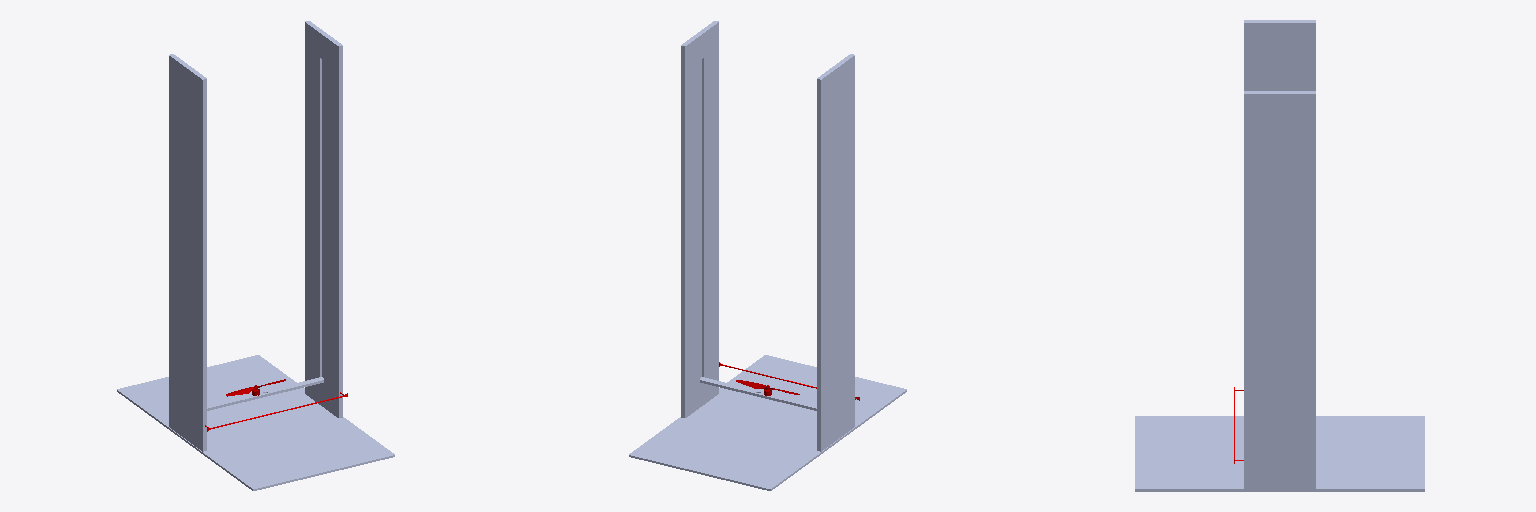
The robot description file, URDF, robot "robotbar_pid_flight_altitude":
<?xml version="1.0" encoding="utf-8"?>
<!-- This URDF was automatically created by SolidWorks to URDF Exporter! Originally created by [author] ([email redacted]) 
     Commit Version: 1.6.0-4-g7f85cfe  Build Version: 1.6.7995.38578
     For more information, please see http://wiki.ros.org/sw_urdf_exporter -->
<robot name="robotbar_pid_flight_altitude">
  <link name="world" />

  <joint name="base_joint" type="fixed">
    <origin
      xyz="0 0 0"
      rpy="0 0 0" />
    <parent link="world" />
    <child link="base_link" />
  </joint>

  <link name="base_link">
    <inertial>
      <origin
        xyz="-3.3307E-16 0.00010179 0.56756"
        rpy="0 0 0" />
      <mass
        value="19.004" />
      <inertia
        ixx="5.2179"
        ixy="3.6943E-16"
        ixz="1.5946E-15"
        iyy="6.0568"
        iyz="-0.00036839"
        izz="1.7946" />
    </inertial>
    <visual>
      <origin
        xyz="0 0 0"
        rpy="0 0 0" />
      <geometry>
        <mesh
          filename="package://robotbar_pid_flight_altitude/meshes/base_link.STL" />
      </geometry>
      <material name="">
        <color rgba="0.79216 0.81961 0.93333 1" />
      </material>
    </visual>
    <collision>
      <origin
        xyz="0 0 0"
        rpy="0 0 0" />
      <geometry>
        <mesh
          filename="package://robotbar_pid_flight_altitude/meshes/base_link.STL" />
      </geometry>
    </collision>
  </link>

  <joint name="target_joint" type="prismatic">
    <origin
      xyz="0 -0.153 0.1095"
      rpy="0 0 0" />
    <parent
      link="base_link" />
    <child
      link="target_link" />
    <axis
      xyz="0 0 1" />
    <limit
      lower="0"
      upper="1.3"
      effort="1000"
      velocity="200" />
    <dynamics damping="0.7"/>
  </joint>

  <joint name="board_joint" type="prismatic">
    <origin
      xyz="0 0 0.108"
      rpy="0 0 0" />
    <parent
      link="base_link" />
    <child
      link="board_link" />
    <axis
      xyz="0 0 1" />
    <limit
      lower="0"
      upper="1.3"
      effort="1000"
      velocity="100" />
    <dynamics damping="0.7"/>
  </joint>

  <link name="target_link">
    <inertial>
      <origin
        xyz="6.9944E-15 -0.001587 -2.2204E-16"
        rpy="0 0 0" />
      <mass
        value="0.001035" />
      <inertia
        ixx="2.0324E-07"
        ixy="-1.749E-20"
        ixz="-4.2872E-20"
        iyy="0.0002126"
        iyz="-5.9908E-21"
        izz="0.00021276" />
    </inertial>
    <visual>
      <origin
        xyz="0 0 0"
        rpy="0 0 0" />
      <geometry>
        <mesh
          filename="package://robotbar_pid_flight_altitude/meshes/target_link.STL" />
      </geometry>
      <material
        name="">
        <color
          rgba="1 0 0 1" />
      </material>
    </visual>
    <collision>
      <origin
        xyz="0 0 0"
        rpy="0 0 0" />
      <geometry>
        <mesh
          filename="package://robotbar_pid_flight_altitude/meshes/target_link.STL" />
      </geometry>
    </collision>
  </link>

  <link name="board_link">
    <inertial>
      <origin
        xyz="-0.00053657 0 0.0050063"
        rpy="0 0 0" />
      <mass
        value="0.015701" />
      <inertia
        ixx="1.1733E-04"
        ixy="-9.2502E-19"
        ixz="-4.0352E-07"
        iyy="0.043646"
        iyz="-7.8087E-22"
        izz="0.043737" />
    </inertial>
    <visual>
      <origin
        xyz="0 0 0"
        rpy="0 0 0" />
      <geometry>
        <mesh
          filename="package://robotbar_pid_flight_altitude/meshes/board_link.STL" />
      </geometry>
      <material
        name="">
        <color
          rgba="0.79216 0.81961 0.93333 1" />
      </material>
    </visual>
    <collision>
      <origin
        xyz="0 0 0"
        rpy="0 0 0" />
      <geometry>
        <mesh
          filename="package://robotbar_pid_flight_altitude/meshes/board_link.STL" />
      </geometry>
    </collision>
  </link>

  <joint name="height_sesor_joint" type="fixed">
    <origin
      xyz="0.04 0 0.0035"
      rpy="3.1416 1.5708 3.1416" /> <!--3.1416 0 3.1416-->
    <parent
      link="board_link" />
    <child
      link="height_sensor_link" />
    <axis
      xyz="0 0 0" />
  </joint>

  <joint name="motor_joint" type="continuous">
    <origin
      xyz="0 0 0.01"
      rpy="0 0 0" />
    <parent
      link="board_link" />
    <child
      link="motor_link" />
    <axis
      xyz="0 0 -1" />
    <limit
      effort="100"
      velocity="1250" />
  </joint>

  <link name="height_sensor_link">
    <inertial>
      <origin
        xyz="7.3733E-05 -0.00024445 0.0008474"
        rpy="0 0 0" />
      <mass
        value="0.001" />
      <inertia
        ixx="2.8213E-09"
        ixy="2.4144E-12"
        ixz="3.4557E-11"
        iyy="1.0327E-08"
        iyz="3.6792E-11"
        izz="1.2859E-08" />
    </inertial>
    <visual>
      <origin
        xyz="0 0 0"
        rpy="0 -1.5708 0" />
      <geometry>
        <mesh
          filename="package://robotbar_pid_flight_altitude/meshes/height_sensor_link.STL" />
      </geometry>
      <material
        name="">
        <color
          rgba="0.79216 0.81961 0.93333 1" />
      </material>
    </visual>
    <collision>
      <origin
        xyz="0 0 0"
        rpy="0 0 0" />
      <geometry>
        <mesh
          filename="package://robotbar_pid_flight_altitude/meshes/height_sensor_link.STL" />
      </geometry>
    </collision>
  </link>

  <link name="motor_link">
    <inertial>
      <origin
        xyz="-5.3086E-07 -1.0568E-05 0.019773"
        rpy="0 0 0" />
      <mass
        value="0.065" />
      <inertia
        ixx="1.4189E-04"
        ixy="-1.4154E-04"
        ixz="-2.4139E-07"
        iyy="3.4345E-03"
        iyz="1.9009E-07"
        izz="3.4607E-03" />
    </inertial>
    <visual>
      <origin
        xyz="0 0 0"
        rpy="0 0 0" />
      <geometry>
        <mesh
          filename="package://robotbar_pid_flight_altitude/meshes/motor_link.STL" />
      </geometry>
      <material
        name="">
        <color
          rgba="0.75294 0 0 1" />
      </material>
    </visual>
    <collision>
      <origin
        xyz="0 0 0"
        rpy="0 0 0" />
      <geometry>
        <mesh
          filename="package://robotbar_pid_flight_altitude/meshes/motor_link.STL" />
      </geometry>
    </collision>
  </link>

  <gazebo reference="board_link">
    <material>Gazebo/Grey</material>
  </gazebo>

  <gazebo reference="motor_link">
    <material>Gazebo/Red</material>
  </gazebo>

  <gazebo reference="height_sensor_link">
    <material>Gazebo/Black</material>
  </gazebo>

  <!-- ROS Gazebo plugin -->
  <gazebo>
    <plugin name="gazebo_ros_control" filename="libgazebo_ros_control.so">
      <robotNamespace>/</robotNamespace>
    </plugin>
  </gazebo>

  <!-- Height sensor -->
  <gazebo reference="height_sensor_link">
    <sensor name="vl53l1xSensor" type="ray">
      <pose>0 0 0 0 0 0</pose>
      <visualize>true</visualize>
      <update_rate>10</update_rate>
      <ray>
        <scan>
          <horizontal>
            <samples>1</samples>
            <resolusion>1</resolusion>
            <min_angle>-0</min_angle>
            <max_angle>0</max_angle>
          </horizontal>
        </scan>
        <range>
          <min>0.008</min>
          <max>4</max>
          <resolusion>0.001</resolusion>
        </range>
        <noise>
          <type>gaussian</type>
          <mean>0.0</mean>
          <stddev>0.001</stddev>
        </noise>
      </ray>
      <plugin name="vl53l1x_controller" filename="libgazebo_ros_laser.so">
        <topicName>/vl53l1x_sensor/distance</topicName>
        <frameName>vl53l1x_sensor</frameName>
      </plugin>
    </sensor>
  </gazebo>

  <!-- ROS control -->
  <transmission name="target_trans">
    <type>transmission_interface/SimpleTransmission</type>
    <actuator name="target_motor" />
    <joint name="target_joint">
      <hardwareInterface>hardware_interface/PositionJointInterface</hardwareInterface>
    </joint>
  </transmission>

  <transmission name="board_trans">
    <type>transmission_interface/SimpleTransmission</type>
    <actuator name="board_motor" />
    <joint name="board_joint">
      <hardwareInterface>hardware_interface/EffortJointInterface</hardwareInterface>
    </joint>
  </transmission>

  <transmission name="motor_trans">
    <type>transmission_interface/SimpleTransmission</type>
    <actuator name="motor_motor" />
    <joint name="motor_joint">
      <hardwareInterface>hardware_interface/VelocityJointInterface</hardwareInterface>
    </joint>
  </transmission>
</robot>

--- Render facts (derived) ---
Views: 3 orthographic renders of the robot side by side, from view 1: azimuth 30°, elevation 25°; view 2: azimuth 150°, elevation 25°; view 3: azimuth 270°, elevation 25°.
Robot: robotbar_pid_flight_altitude — 6 links, 5 joints (1 continuous, 2 prismatic, 2 fixed); root link world; default pose: all joints at 0.
Visible links, largest first — view 1: base_link, board_link; view 2: base_link, board_link; view 3: base_link.
Link boxes in pixels (bbox=[...]): base_link: bbox=[117, 21, 394, 490]; board_link: bbox=[207, 377, 323, 410]; base_link: bbox=[629, 21, 906, 490]; board_link: bbox=[700, 377, 816, 410]; base_link: bbox=[1135, 20, 1424, 491].
Size in the robot's own frame: 0.6 by 1 by 1.51 metres.
5 mesh visuals loaded from 5 distinct referenced files (5 binary STL).
